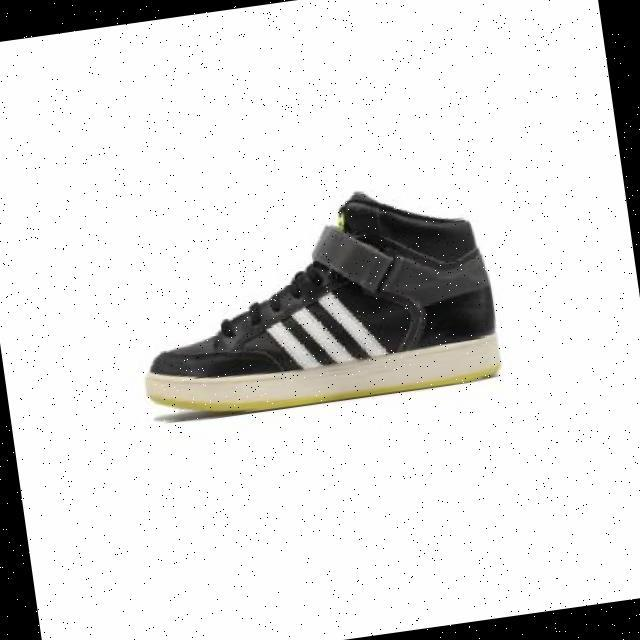Adidas: (263, 277, 396, 382)
